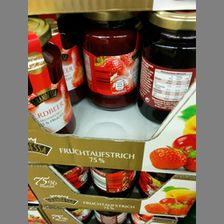jam: (136, 12, 196, 126), (81, 11, 142, 112), (28, 16, 75, 134)
